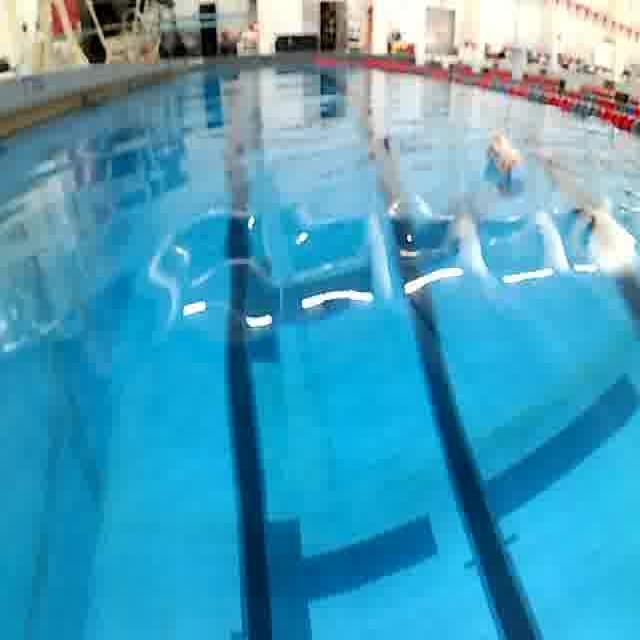Bottle: (480, 114, 530, 203)
